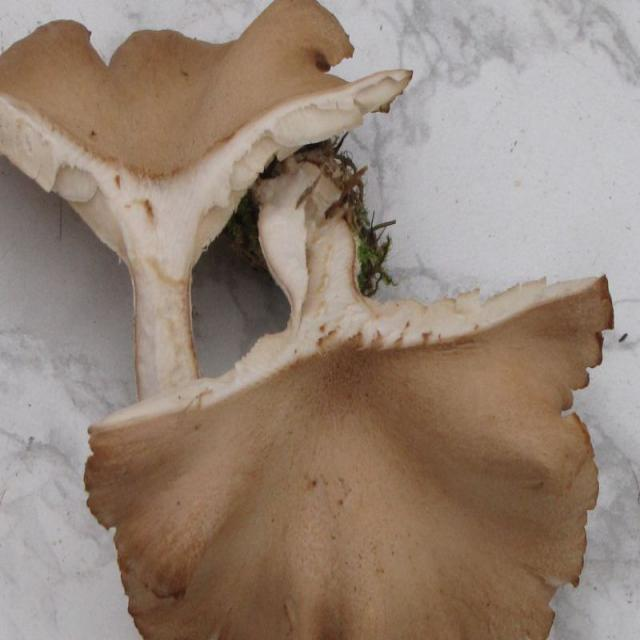Clitocybe maxima: (91, 220, 614, 640), (0, 0, 410, 404)
